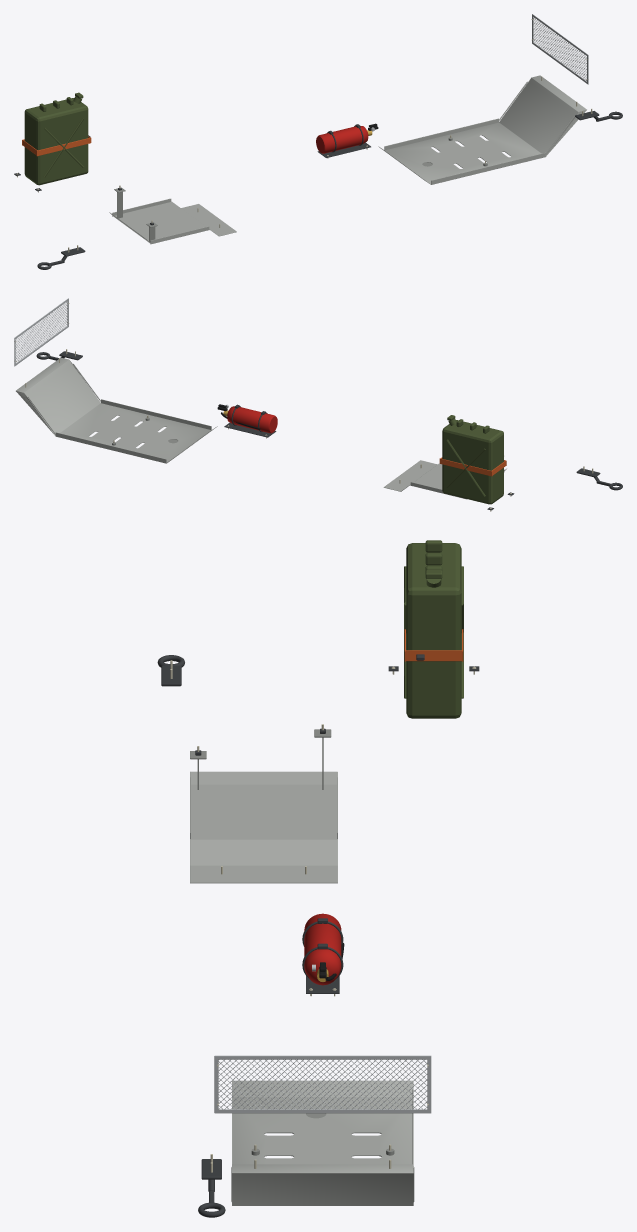
File: raid.glb
3 views of the same model, one above another, from view 1: azimuth 30°, elevation 25°; view 2: azimuth 150°, elevation 25°; view 3: azimuth 270°, elevation 25° (orthographic). The views are drawn at different scales.
Visible parts, largest first — view 1: blindage-moteur.acier-galvanise, jerrican.jerrican, blindage-reservoir.acier-galvanise, grillage-calandre.aluminium, extincteur.rouge-extincteur, anneaux-remorquage.acier-noirci, jerrican.sangle, extincteur.acier-noirci; view 2: blindage-moteur.acier-galvanise, jerrican.jerrican, grillage-calandre.aluminium, blindage-reservoir.acier-galvanise, extincteur.rouge-extincteur, anneaux-remorquage.acier-noirci, jerrican.sangle, extincteur.acier-noirci; view 3: blindage-moteur.acier-galvanise, blindage-reservoir.acier-galvanise, jerrican.jerrican, grillage-calandre.aluminium, extincteur.rouge-extincteur, anneaux-remorquage.acier-noirci, extincteur.acier-noirci.
Part boxes in pixels (x1,y1,x2,y2): blindage-moteur.acier-galvanise: (378, 75, 586, 184); jerrican.jerrican: (24, 92, 88, 185); blindage-reservoir.acier-galvanise: (109, 198, 236, 244); grillage-calandre.aluminium: (532, 14, 588, 84); extincteur.rouge-extincteur: (316, 126, 368, 153); anneaux-remorquage.acier-noirci: (37, 111, 622, 269); jerrican.sangle: (22, 136, 91, 156); extincteur.acier-noirci: (317, 124, 370, 157); blindage-moteur.acier-galvanise: (16, 357, 217, 463); jerrican.jerrican: (442, 415, 503, 504); grillage-calandre.aluminium: (14, 298, 68, 366); blindage-reservoir.acier-galvanise: (383, 460, 506, 499); extincteur.rouge-extincteur: (227, 406, 277, 433); anneaux-remorquage.acier-noirci: (36, 351, 622, 490); jerrican.sangle: (439, 457, 506, 476); extincteur.acier-noirci: (224, 404, 276, 437); blindage-moteur.acier-galvanise: (231, 1080, 414, 1205); blindage-reservoir.acier-galvanise: (190, 771, 337, 883); jerrican.jerrican: (404, 540, 463, 718); grillage-calandre.aluminium: (214, 1055, 431, 1113); extincteur.rouge-extincteur: (304, 913, 341, 985); anneaux-remorquage.acier-noirci: (157, 655, 225, 1217); extincteur.acier-noirci: (302, 918, 343, 993).
Size of the model in its own units: 3.94 by 0.8053 by 0.956.
